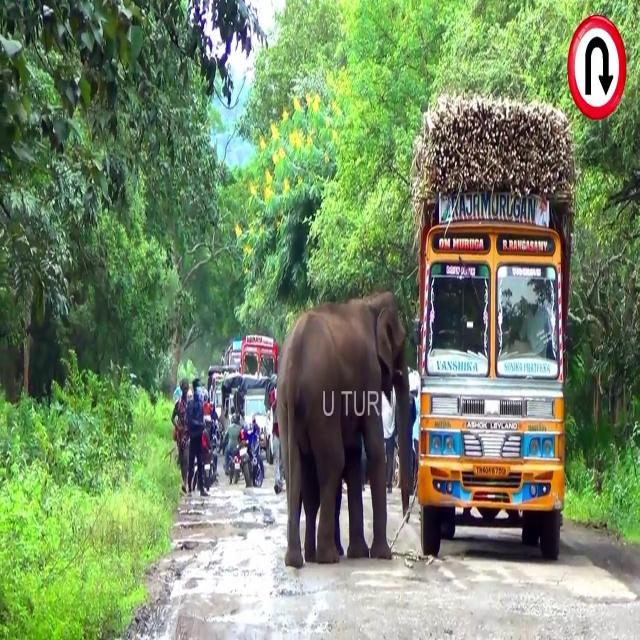Elephant: (276, 288, 410, 571)
